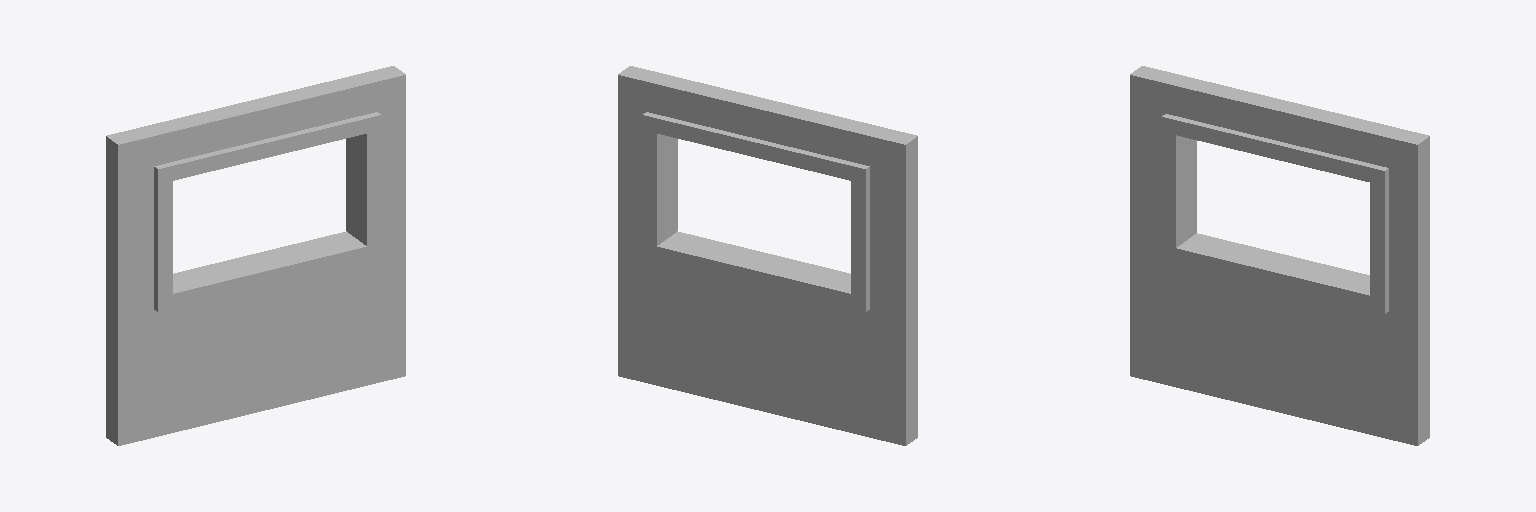
Rendered from shed window wall.obj.
3 renders of one model, left to right at view 1: azimuth 30°, elevation 25°; view 2: azimuth 150°, elevation 25°; view 3: azimuth 330°, elevation 25°, orthographic.
Parts seen in each view (by area): view 1: object 1; view 2: object 1; view 3: object 1.
Boxes of the visible parts, <box> form: object 1: <box>106,66,405,445</box>; object 1: <box>618,66,917,445</box>; object 1: <box>1130,66,1429,445</box>.
Bounding box in the file's own units: 4 × 4 × 0.5.